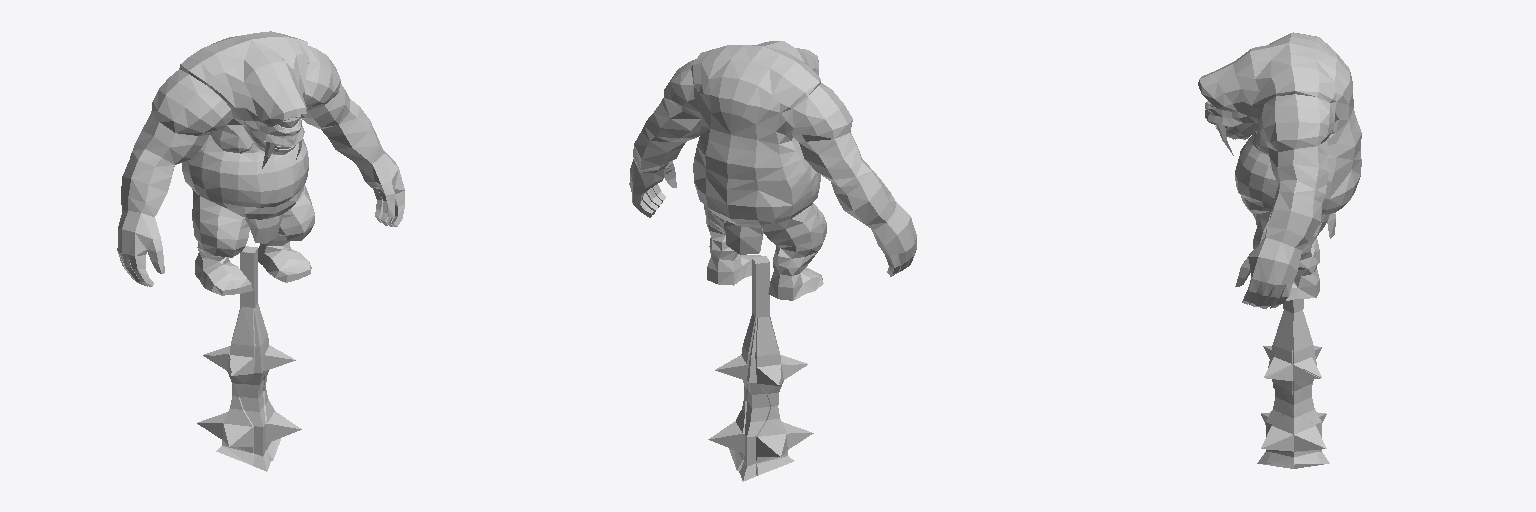
Rendered from troll_zombie.obj.
The picture shows the model from 3 angles: view 1: azimuth 30°, elevation 25°; view 2: azimuth 150°, elevation 25°; view 3: azimuth 270°, elevation 25°; orthographic projection.
Parts seen in each view (by area): view 1: trawl-mesh, b_parts_02-mesh, trawl_w_b-mesh; view 2: trawl-mesh, b_parts_02-mesh, trawl_w_w-mesh, trawl_w_b-mesh; view 3: trawl-mesh, b_parts_02-mesh, trawl_w_b-mesh, trawl_w_w-mesh.
Boxes of the visible parts, <box> form: trawl-mesh: <box>117,31,404,295</box>; b_parts_02-mesh: <box>197,385,301,471</box>; trawl_w_b-mesh: <box>204,248,295,395</box>; trawl-mesh: <box>629,41,916,300</box>; b_parts_02-mesh: <box>708,389,813,481</box>; trawl_w_w-mesh: <box>715,261,806,405</box>; trawl_w_b-mesh: <box>752,256,807,404</box>; trawl-mesh: <box>1198,32,1361,308</box>; b_parts_02-mesh: <box>1257,390,1329,468</box>; trawl_w_b-mesh: <box>1263,300,1320,394</box>; trawl_w_w-mesh: <box>1266,299,1321,394</box>.
Size of the model in its own units: 458 by 664 by 232.